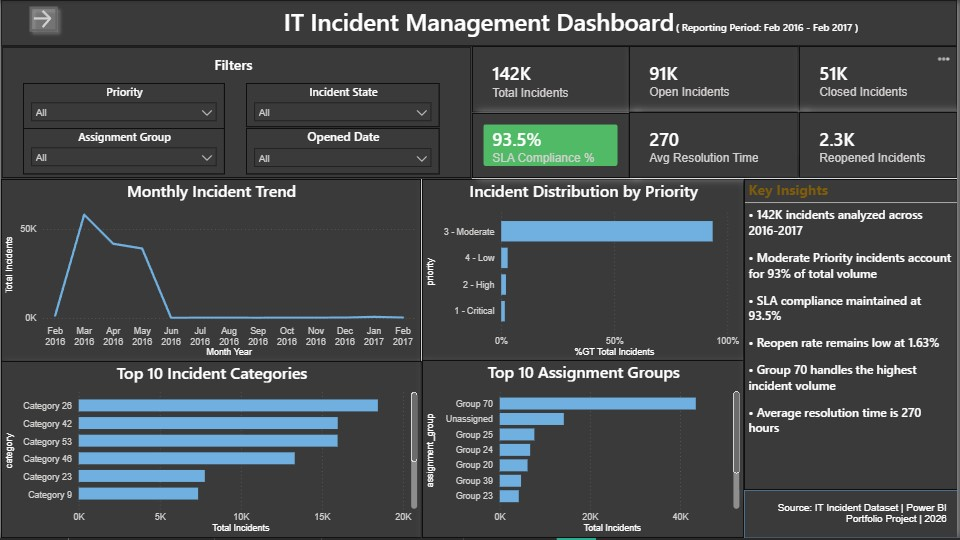

The dashboard page shown, as its layout file describes it:
{"tool":"powerbi","page":{"name":"Executive Overview","canvas":[1280,720],"ordinal":0},"visuals":[{"type":"cardVisual","fields":{"Data":["Calculated Measures.Total Incidents"]},"box":[630.4,61.9,210.6,89.5],"z":0},{"type":"lineChart","title":"Monthly Incident Trend","fields":{"Y":["Calculated Measures.Total Incidents"],"Category":["Incidents.Month Year"]},"box":[0,239.5,561.5,245],"z":1000},{"type":"barChart","title":"Incident Distribution by Priority","fields":{"Category":["Incidents.priority"],"Y":["Calculated Measures.Total Incidents"]},"box":[562.9,239.5,430.8,245],"z":2000},{"type":"clusteredBarChart","title":"Top 10 Incident Categories","fields":{"Category":["Incidents.category"],"Y":["Calculated Measures.Total Incidents"]},"box":[0,483.1,562.9,236.7],"z":3000},{"type":"barChart","title":"Top 10 Assignment Groups","fields":{"Category":["Incidents.assignment_group"],"Y":["Calculated Measures.Total Incidents"]},"box":[562.9,481.7,430.8,238.1],"z":4000},{"type":"cardVisual","fields":{"Data":["Calculated Measures.Open Incidents"]},"box":[840.9,61.9,227.1,88.1],"z":5000},{"type":"cardVisual","fields":{"Data":["Calculated Measures.Closed Incidents"]},"box":[1068,61.9,212,88.1],"z":6000},{"type":"cardVisual","fields":{"Data":["Calculated Measures.SLA Compliance %"]},"box":[630.4,151.4,210.6,86.7],"z":7000},{"type":"cardVisual","fields":{"Data":["Calculated Measures.MTTR"]},"box":[840.9,150,227.1,88.1],"z":8000},{"type":"cardVisual","fields":{"Data":["Calculated Measures.Reopened Incidents"]},"box":[1068,150,212,88.1],"z":9000},{"type":"shape","box":[0,61.9,630.4,177.5],"z":10000},{"type":"slicer","title":"Priority","fields":{"Values":["Incidents.priority"]},"box":[28.9,111.5,269.8,61.9],"z":11000},{"type":"slicer","title":"Incident State","fields":{"Values":["Incidents.incident_state"]},"box":[327.6,111.5,258.8,59.2],"z":12000},{"type":"slicer","title":"Assignment Group","fields":{"Values":["Incidents.assignment_group"]},"box":[28.9,170.7,269.8,61.9],"z":13000},{"type":"slicer","title":"Opened Date","fields":{"Values":["Incidents.opened_at"]},"box":[327.6,170.7,258.8,61.9],"z":14000},{"type":"textbox","box":[169.3,67.4,284.9,44],"z":15000},{"type":"textbox","box":[0,0,1280,61.9],"z":16000},{"type":"actionButton","box":[28.9,0,55.1,50.9],"z":17000},{"type":"textbox","title":"Key Insights","box":[993.7,239.5,286.3,415.7],"z":18000},{"type":"shape","box":[993.7,655.1,286.3,64.7],"z":19000},{"type":"textbox","box":[1006.1,666.2,264.3,44],"z":20000}]}

Visuals, with their boxes in screenshot pixels (x1, y1, x2, y2), scaled from the page's 1280x720 canvas onto the 960x540 screenshot:
cardVisual - Calculated Measures.Total Incidents: x1=473 y1=46 x2=631 y2=114
"Monthly Incident Trend" lineChart: x1=0 y1=180 x2=421 y2=363
"Incident Distribution by Priority" barChart: x1=422 y1=180 x2=745 y2=363
"Top 10 Incident Categories" clusteredBarChart: x1=0 y1=362 x2=422 y2=539
"Top 10 Assignment Groups" barChart: x1=422 y1=361 x2=745 y2=539
cardVisual - Calculated Measures.Open Incidents: x1=631 y1=46 x2=801 y2=112
cardVisual - Calculated Measures.Closed Incidents: x1=801 y1=46 x2=959 y2=112
cardVisual - Calculated Measures.SLA Compliance %: x1=473 y1=114 x2=631 y2=179
cardVisual - Calculated Measures.MTTR: x1=631 y1=112 x2=801 y2=179
cardVisual - Calculated Measures.Reopened Incidents: x1=801 y1=112 x2=959 y2=179
shape: x1=0 y1=46 x2=473 y2=180
"Priority" slicer: x1=22 y1=84 x2=224 y2=130
"Incident State" slicer: x1=246 y1=84 x2=440 y2=128
"Assignment Group" slicer: x1=22 y1=128 x2=224 y2=174
"Opened Date" slicer: x1=246 y1=128 x2=440 y2=174
textbox: x1=127 y1=51 x2=341 y2=84
textbox: x1=0 y1=0 x2=959 y2=46
actionButton: x1=22 y1=0 x2=63 y2=38
"Key Insights" textbox: x1=745 y1=180 x2=959 y2=491
shape: x1=745 y1=491 x2=959 y2=539
textbox: x1=755 y1=500 x2=953 y2=533
